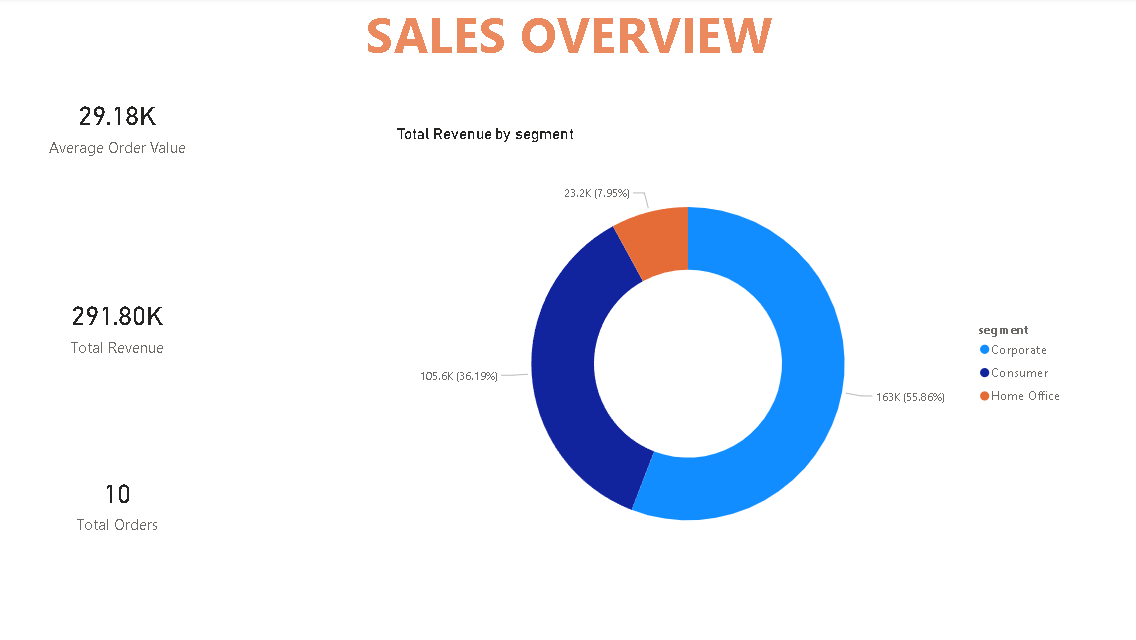

The dashboard page shown, as its layout file describes it:
{"tool":"powerbi","page":{"name":"Page 1","canvas":[1280,720],"ordinal":0},"visuals":[{"type":"card","fields":{"Values":["sales.Total Revenue"]},"box":[0,219.6,279.9,279.9],"z":0},{"type":"card","fields":{"Values":["sales.Total Orders"]},"box":[0,414.4,279.9,279.9],"z":1000},{"type":"card","fields":{"Values":["sales.Average Order Value"]},"box":[0,0,279.9,279.9],"z":2000},{"type":"donutChart","fields":{"Category":["customers.segment"],"Y":["sales.Total Revenue"]},"box":[441.9,140,745.1,506.3],"z":3000},{"type":"textbox","box":[0,0,1280.3,68.6],"z":4000}]}

Visuals, with their boxes in screenshot pixels (x1, y1, x2, y2), scaled from the page's 1280x720 canvas onto the 1136x640 screenshot:
card - sales.Total Revenue: detection(0, 195, 248, 444)
card - sales.Total Orders: detection(0, 368, 248, 617)
card - sales.Average Order Value: detection(0, 0, 248, 249)
donutChart - customers.segment x sales.Total Revenue: detection(392, 124, 1053, 574)
textbox: detection(0, 0, 1135, 61)
